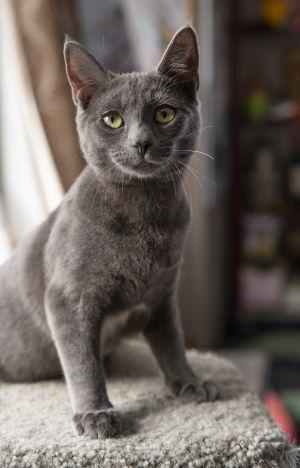rblue: (55, 23, 210, 194)
